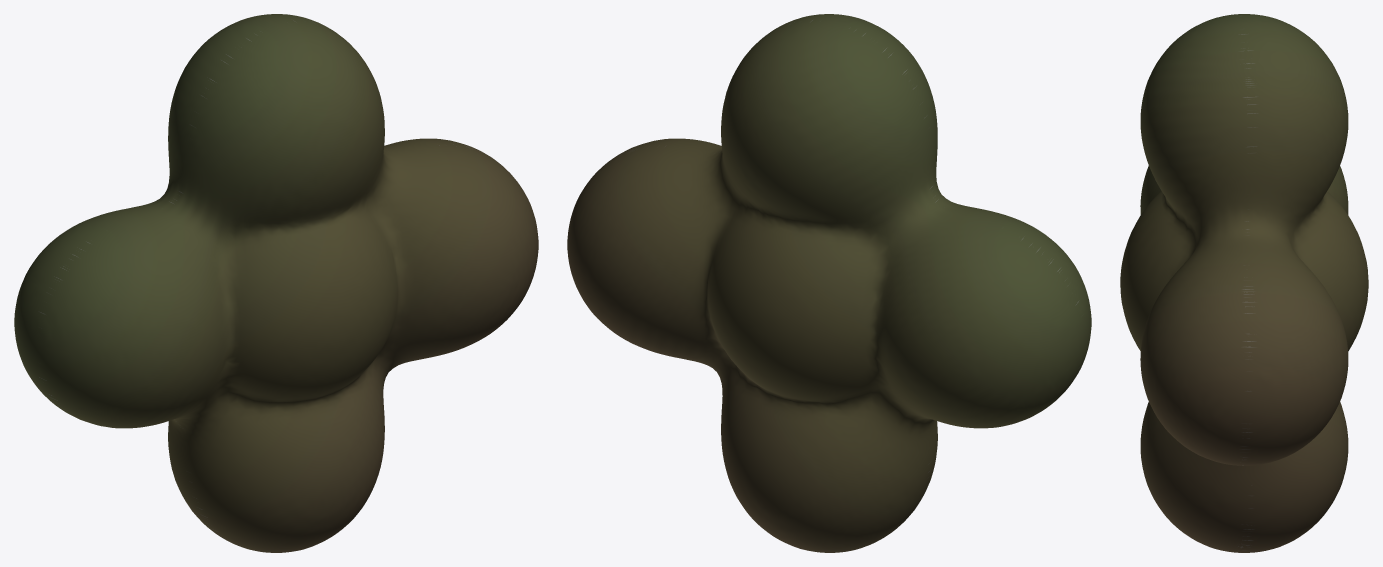
The model's file is 06_cello_inactive.glb.
3 views of the same model, side by side, from view 1: azimuth 30°, elevation 25°; view 2: azimuth 150°, elevation 25°; view 3: azimuth 270°, elevation 25° (orthographic).
Parts seen in each view (by area): view 1: inactive; view 2: inactive; view 3: inactive.
Boxes of the visible parts, x1,y1,x2,y2 form: inactive: [14, 14, 538, 552]; inactive: [567, 14, 1091, 552]; inactive: [1120, 14, 1368, 552].
Size of the model in its own units: 0.1305 by 0.1305 by 0.0565.
1 material, 1 textured.
